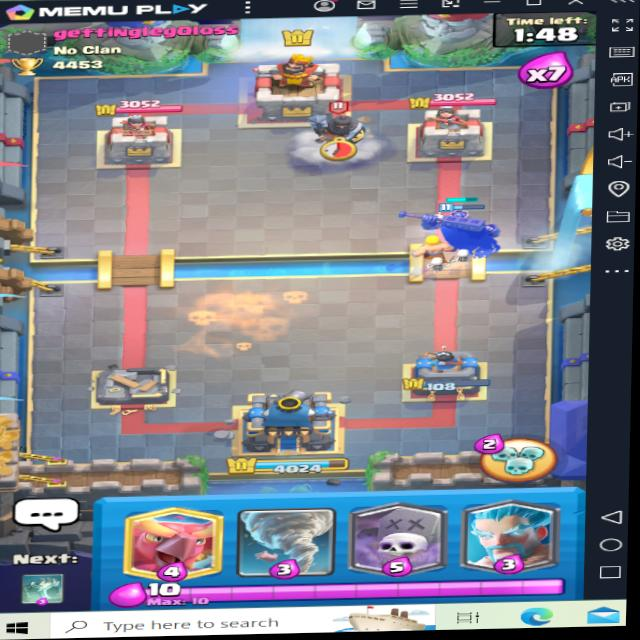dark-prince: (307, 96, 365, 151)
